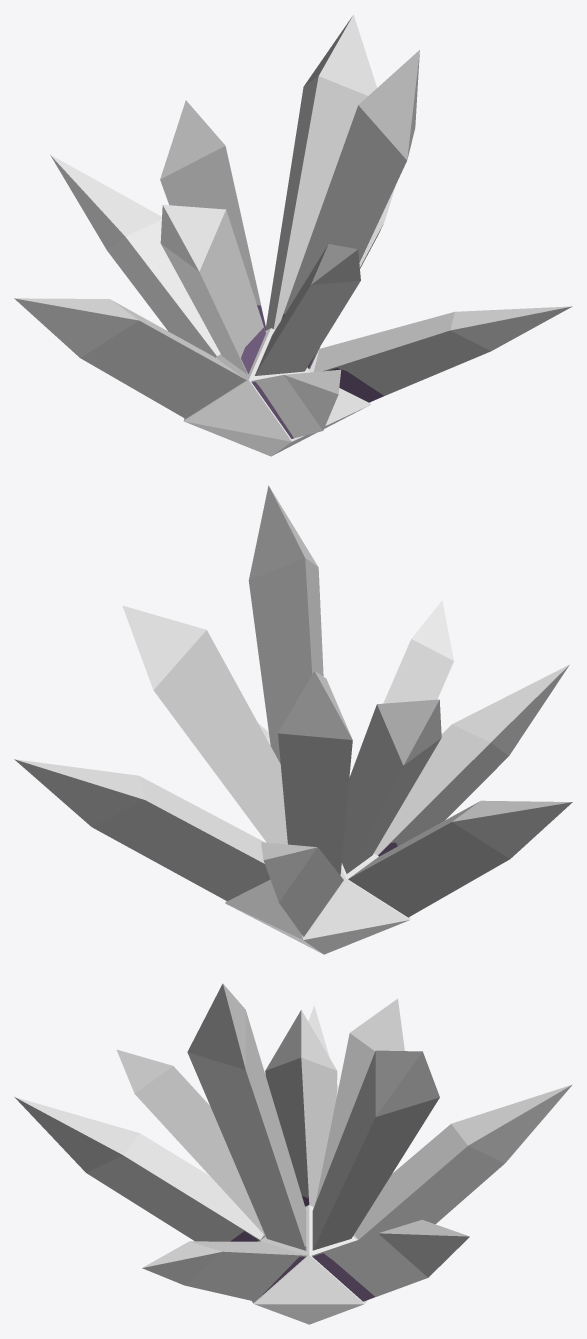
The model's file is resource__decoration__crystal__crystal-flower_5.fbx.
The picture shows the model from 3 angles, top to bottom: view 1: azimuth 30°, elevation 25°; view 2: azimuth 150°, elevation 25°; view 3: azimuth 270°, elevation 25°; orthographic projection. The views are drawn at different scales.
Visible parts, largest first — view 1: Crystal_Flower_5; view 2: Crystal_Flower_5; view 3: Crystal_Flower_5.
Boxes of the visible parts, <box> form: Crystal_Flower_5: <box>14,15,572,456</box>; Crystal_Flower_5: <box>14,485,572,954</box>; Crystal_Flower_5: <box>14,983,572,1324</box>.
Size of the model in its own units: 906 by 747 by 975.
